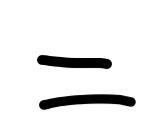eqv: (37, 54, 136, 109)
